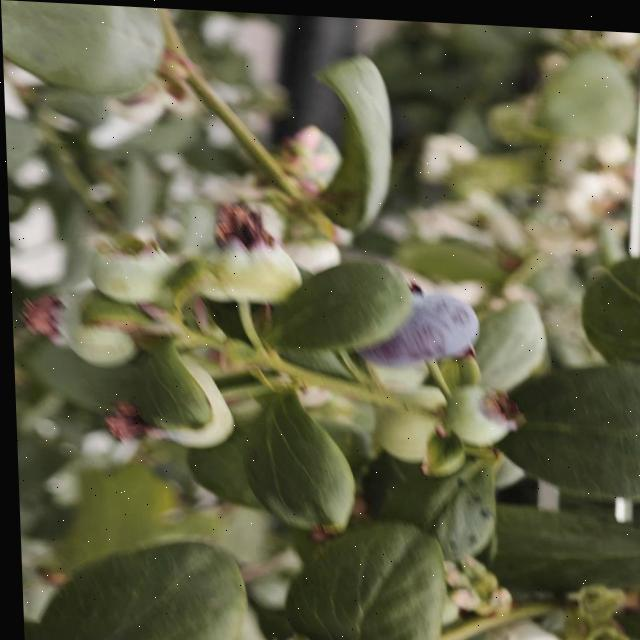RipeBlueBerry: (344, 283, 482, 364)
UnripeBlueBerry: (206, 219, 304, 301), (85, 229, 175, 305), (440, 379, 513, 441)
